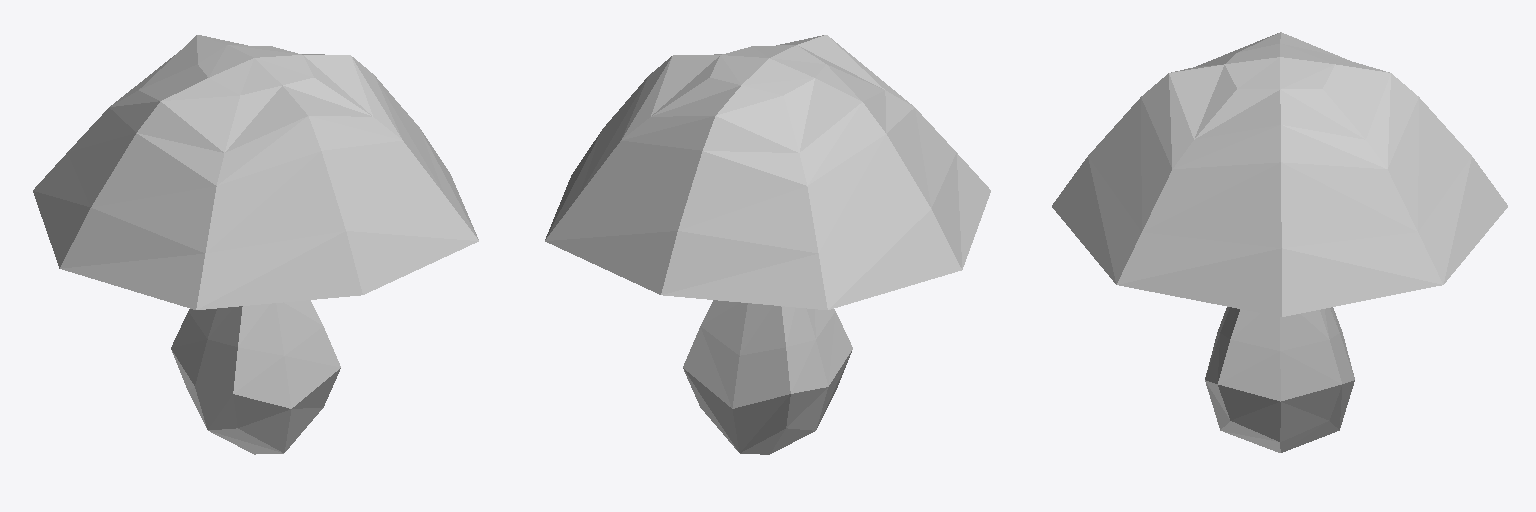
Rendered from Mushroom.obj.
The picture shows the model from 3 angles: view 1: azimuth 30°, elevation 25°; view 2: azimuth 150°, elevation 25°; view 3: azimuth 270°, elevation 25°; orthographic projection.
Parts seen in each view (by area): view 1: pCube1; view 2: pCube1; view 3: pCube1.
Boxes of the visible parts, <box> form: pCube1: <box>33,35,478,454</box>; pCube1: <box>545,35,990,454</box>; pCube1: <box>1052,32,1507,452</box>.
Size of the model in its own units: 4.55 by 4.42 by 4.61.